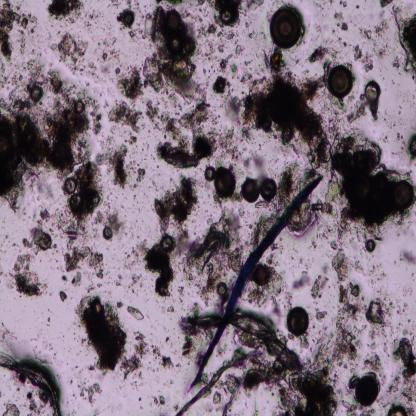Background material: (325, 126, 412, 240), (238, 72, 334, 174), (0, 108, 91, 201), (182, 205, 240, 282), (76, 294, 127, 378), (140, 53, 207, 112), (275, 365, 338, 416), (152, 174, 199, 236), (154, 129, 212, 170), (70, 160, 104, 227), (324, 320, 366, 372), (391, 4, 416, 83), (7, 254, 48, 298), (144, 242, 176, 298), (50, 207, 92, 245), (57, 30, 90, 76), (302, 323, 333, 370), (247, 268, 282, 305), (156, 112, 191, 148), (107, 99, 142, 134), (44, 69, 74, 109), (276, 166, 302, 211), (176, 99, 211, 132), (113, 64, 144, 101), (334, 281, 364, 319), (22, 220, 54, 254), (212, 124, 237, 163), (394, 336, 416, 378), (108, 144, 128, 190), (328, 248, 354, 282), (219, 91, 244, 125), (144, 6, 166, 44), (300, 73, 327, 102), (289, 203, 311, 238), (24, 54, 48, 86), (48, 0, 85, 20), (63, 245, 90, 272), (83, 247, 105, 279), (307, 46, 339, 68), (365, 353, 386, 386), (325, 98, 348, 128), (120, 355, 144, 383), (172, 228, 192, 261), (338, 386, 360, 416), (200, 280, 219, 314), (163, 19, 187, 45), (263, 48, 286, 75), (0, 0, 21, 29), (10, 62, 28, 94), (264, 297, 286, 322), (241, 72, 271, 90), (134, 330, 152, 360), (347, 94, 365, 124), (130, 239, 149, 267), (366, 300, 386, 326), (35, 176, 54, 202), (77, 88, 99, 110), (281, 282, 297, 310), (14, 94, 36, 114), (312, 276, 329, 301), (0, 319, 17, 344), (0, 28, 12, 63), (311, 202, 336, 218), (252, 219, 271, 240), (290, 270, 311, 289), (372, 39, 391, 59), (26, 391, 41, 416), (6, 190, 21, 215), (400, 378, 416, 401), (316, 221, 336, 239), (108, 213, 125, 234), (90, 107, 102, 136), (229, 251, 244, 274), (179, 20, 196, 40), (250, 153, 266, 174), (127, 272, 145, 290), (146, 99, 160, 122), (374, 18, 390, 37), (214, 0, 244, 10), (83, 385, 96, 408), (360, 51, 374, 72), (212, 76, 228, 94), (398, 249, 416, 265), (218, 54, 233, 73), (376, 396, 404, 406), (368, 326, 387, 340), (238, 126, 252, 145), (233, 0, 243, 26), (128, 306, 144, 322), (387, 376, 401, 394), (407, 134, 416, 162), (95, 150, 108, 169), (357, 25, 373, 40), (100, 135, 114, 152), (369, 99, 379, 122), (351, 42, 363, 61), (392, 55, 404, 74), (18, 28, 26, 56), (160, 355, 174, 370), (376, 287, 390, 302), (103, 33, 117, 48), (298, 334, 311, 350), (208, 110, 221, 126), (3, 404, 20, 416), (217, 158, 234, 170), (247, 0, 264, 12), (211, 389, 222, 407), (0, 97, 11, 115), (152, 394, 166, 408), (39, 206, 52, 221), (330, 372, 342, 388), (110, 48, 122, 64), (20, 12, 31, 29), (403, 401, 416, 415), (290, 142, 300, 160), (136, 1, 145, 21), (195, 168, 204, 188), (0, 74, 11, 90), (278, 329, 289, 345), (151, 343, 162, 359), (217, 342, 229, 356), (351, 259, 363, 273), (233, 44, 245, 58), (206, 22, 218, 36), (70, 272, 82, 286), (196, 26, 208, 40), (276, 146, 290, 158), (361, 404, 375, 416), (205, 38, 215, 54), (347, 375, 358, 389), (94, 209, 103, 226), (136, 167, 146, 182), (384, 304, 393, 320), (314, 307, 326, 319), (382, 340, 390, 358), (227, 29, 240, 40), (395, 326, 409, 336), (166, 93, 178, 104), (101, 202, 111, 215), (88, 61, 96, 77), (114, 274, 123, 288), (309, 237, 318, 251), (31, 343, 38, 361), (379, 0, 394, 8), (230, 64, 238, 79), (129, 160, 137, 175), (195, 42, 203, 57), (100, 52, 110, 64), (409, 91, 416, 108), (31, 17, 38, 34), (166, 304, 175, 317), (217, 41, 226, 54), (192, 302, 200, 316), (380, 132, 390, 143), (403, 287, 413, 298), (93, 384, 103, 395), (7, 88, 16, 100), (271, 0, 283, 9), (59, 290, 68, 302), (368, 264, 376, 277), (205, 0, 215, 10), (128, 135, 138, 145), (268, 256, 278, 266), (164, 0, 184, 5), (124, 261, 134, 271), (334, 10, 344, 20), (217, 28, 227, 38), (226, 80, 233, 94), (237, 205, 245, 217), (100, 64, 112, 72), (244, 158, 252, 170), (92, 226, 99, 239), (86, 284, 95, 294), (153, 122, 163, 131), (266, 9, 272, 23), (130, 147, 139, 156), (111, 0, 120, 9), (182, 10, 190, 20), (129, 36, 139, 44), (248, 30, 256, 40), (84, 21, 92, 31), (388, 325, 394, 338), (102, 214, 109, 225), (152, 179, 158, 191), (178, 284, 184, 296), (204, 53, 212, 62), (205, 216, 214, 224), (128, 29, 137, 37), (136, 26, 144, 35), (203, 6, 209, 17), (129, 228, 135, 239), (89, 9, 95, 20), (126, 165, 131, 178), (341, 23, 349, 31), (88, 364, 96, 372), (270, 244, 279, 251), (102, 100, 109, 109), (116, 302, 125, 309), (379, 272, 386, 281), (0, 63, 6, 73), (166, 4, 176, 10), (67, 410, 77, 416), (360, 245, 364, 260), (396, 305, 402, 315), (154, 96, 160, 106), (402, 140, 408, 150), (48, 56, 53, 68), (140, 121, 147, 129), (206, 75, 210, 89), (51, 43, 58, 51), (382, 320, 390, 327), (68, 16, 75, 24), (173, 404, 180, 412), (106, 168, 113, 176), (155, 0, 166, 5), (398, 132, 404, 141), (116, 13, 122, 22), (126, 0, 132, 9), (15, 4, 21, 13), (389, 301, 395, 310), (21, 207, 26, 217), (279, 244, 284, 254), (207, 406, 214, 413), (339, 0, 346, 7), (316, 3, 324, 9), (197, 15, 203, 23), (198, 0, 206, 6), (403, 302, 409, 310), (376, 263, 382, 271), (371, 342, 377, 350), (62, 275, 68, 283), (80, 338, 86, 346), (30, 336, 38, 342), (398, 106, 404, 114), (78, 68, 84, 76), (262, 31, 268, 39), (292, 247, 300, 253), (295, 57, 300, 66), (258, 142, 263, 151), (145, 142, 150, 151), (46, 32, 51, 41), (273, 158, 279, 165), (95, 76, 101, 83), (195, 284, 202, 290), (119, 24, 125, 31), (298, 258, 304, 265), (163, 89, 169, 96), (151, 154, 156, 162), (380, 9, 385, 17), (411, 336, 415, 346), (31, 214, 36, 222), (242, 146, 248, 152), (351, 20, 357, 26), (244, 22, 250, 28), (74, 364, 80, 370), (390, 122, 396, 128), (342, 41, 348, 47), (98, 40, 102, 49), (191, 16, 197, 22), (370, 278, 376, 284), (170, 379, 175, 386), (108, 24, 113, 31), (350, 236, 354, 244), (80, 390, 84, 398), (94, 47, 98, 55), (48, 342, 52, 350), (45, 322, 50, 328), (189, 1, 194, 7), (244, 8, 247, 18), (176, 363, 181, 369), (337, 36, 342, 42), (398, 322, 404, 327), (197, 8, 203, 13), (248, 59, 254, 64), (324, 265, 327, 275), (30, 50, 35, 56), (202, 68, 206, 75), (236, 152, 243, 156), (312, 323, 316, 330), (61, 245, 64, 254), (356, 4, 361, 9), (305, 265, 310, 270), (126, 253, 131, 258), (15, 387, 20, 392), (94, 14, 99, 19), (136, 22, 141, 27), (328, 0, 334, 4), (201, 53, 204, 61), (192, 8, 198, 12), (96, 284, 102, 288), (106, 270, 110, 276), (144, 154, 148, 160), (140, 406, 144, 412), (107, 194, 110, 201), (244, 60, 247, 67), (47, 317, 51, 322), (249, 225, 253, 230), (138, 397, 142, 402), (280, 237, 284, 242), (84, 13, 88, 18), (175, 112, 180, 116), (107, 88, 112, 92), (120, 204, 124, 209), (57, 30, 61, 35), (134, 184, 138, 189), (18, 249, 22, 254), (11, 243, 16, 247), (156, 367, 160, 372), (256, 53, 259, 59), (393, 260, 396, 266), (410, 330, 413, 336), (0, 270, 3, 276), (103, 27, 106, 33), (0, 390, 2, 399), (78, 384, 81, 390), (165, 337, 168, 343), (170, 177, 173, 183), (202, 200, 206, 204), (150, 3, 154, 7), (107, 4, 111, 8), (170, 342, 172, 350), (204, 210, 208, 214), (245, 220, 249, 224), (53, 244, 57, 248), (178, 106, 182, 110), (142, 35, 146, 39), (249, 67, 252, 72), (337, 22, 340, 27), (213, 69, 216, 74), (149, 43, 152, 48), (235, 39, 238, 44), (139, 208, 142, 213), (402, 308, 405, 313), (91, 221, 94, 226), (144, 44, 147, 49), (97, 57, 100, 62), (5, 234, 8, 239), (86, 82, 89, 87), (164, 134, 167, 139), (366, 342, 369, 347), (411, 272, 414, 277), (134, 193, 136, 200), (152, 208, 155, 212), (137, 235, 140, 239), (125, 232, 128, 236), (332, 29, 335, 33), (39, 52, 42, 56), (377, 277, 380, 281), (407, 320, 411, 323), (73, 393, 76, 397), (98, 94, 104, 96), (80, 17, 84, 20), (148, 128, 150, 134), (130, 185, 132, 191), (99, 12, 101, 18), (141, 63, 144, 67), (95, 21, 98, 25), (247, 232, 250, 236), (290, 257, 294, 260), (207, 194, 210, 198), (51, 24, 55, 27), (383, 118, 387, 121), (83, 382, 87, 385), (70, 379, 72, 385), (84, 64, 86, 69), (392, 151, 394, 156), (157, 164, 159, 169), (67, 400, 69, 405), (107, 281, 110, 284), (115, 196, 118, 199), (349, 44, 352, 47), (141, 148, 144, 151), (31, 35, 34, 38), (209, 214, 212, 217), (65, 24, 68, 27), (90, 30, 93, 33), (129, 156, 132, 159), (104, 80, 107, 83), (141, 159, 143, 163), (56, 258, 58, 262), (122, 192, 124, 196), (136, 201, 138, 205), (74, 331, 76, 335), (382, 76, 384, 80), (140, 227, 142, 231), (153, 368, 155, 372), (372, 254, 374, 258), (194, 232, 196, 236), (50, 293, 52, 297), (74, 337, 76, 340), (53, 357, 55, 360), (110, 192, 112, 195), (79, 325, 81, 328), (124, 140, 127, 142), (272, 392, 274, 395), (142, 220, 144, 223), (112, 79, 114, 82), (142, 116, 144, 119), (54, 353, 56, 356), (144, 5, 146, 8), (158, 173, 160, 176), (138, 164, 140, 167), (148, 225, 150, 228), (150, 178, 152, 180), (211, 64, 212, 68), (246, 224, 248, 226), (208, 70, 210, 72), (130, 133, 132, 135), (67, 363, 69, 365), (63, 334, 64, 338), (136, 221, 138, 223), (144, 192, 145, 196), (148, 186, 150, 188), (101, 39, 103, 41), (96, 26, 98, 28), (66, 19, 68, 21), (412, 279, 414, 281), (293, 265, 294, 268), (259, 64, 260, 67), (60, 26, 62, 27), (105, 24, 106, 26), (136, 146, 137, 148), (85, 0, 86, 2), (97, 0, 99, 1), (102, 16, 104, 17), (108, 21, 110, 22)
Cellulose filter fibre: (183, 314, 298, 370), (176, 352, 262, 416), (0, 350, 60, 415), (222, 371, 248, 416)
Cotton: (184, 176, 322, 390)
Diatom: (270, 8, 302, 49), (327, 65, 353, 99), (287, 304, 310, 338), (355, 375, 379, 406), (214, 167, 236, 199), (395, 179, 415, 210), (259, 176, 278, 202), (242, 178, 260, 203), (252, 265, 272, 286), (366, 80, 381, 102), (165, 10, 182, 28), (27, 85, 43, 103), (120, 10, 135, 28), (219, 9, 234, 26), (68, 194, 82, 210), (168, 34, 180, 51), (388, 406, 408, 416), (204, 166, 216, 182), (66, 176, 77, 193), (216, 282, 228, 296), (184, 38, 195, 53), (102, 225, 113, 240), (163, 236, 174, 251), (366, 237, 375, 253), (74, 101, 86, 113), (214, 15, 225, 27), (255, 200, 268, 208)
